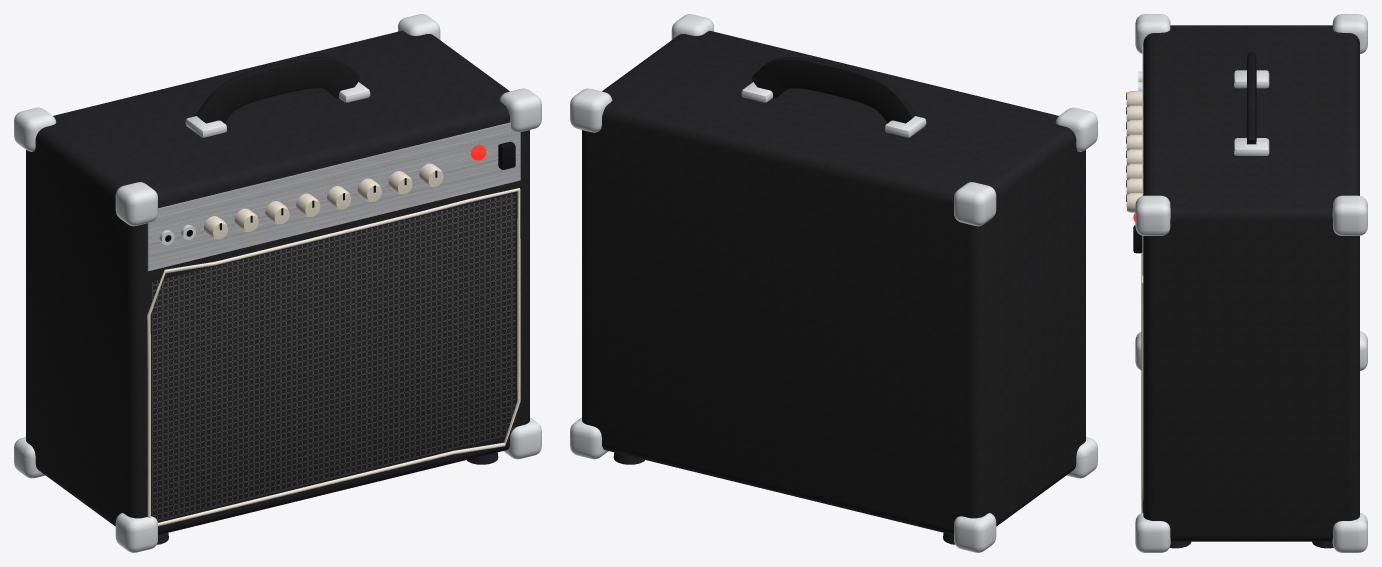
The model's file is guitar-amp.glb.
The picture shows the model from 3 angles, left to right: view 1: azimuth 30°, elevation 25°; view 2: azimuth 150°, elevation 25°; view 3: azimuth 270°, elevation 25°; orthographic projection. The views are drawn at different scales.
Parts seen in each view (by area): view 1: Guitar_Amp; view 2: Guitar_Amp; view 3: Guitar_Amp.
Boxes of the visible parts, x1,y1,x2,y2 form: Guitar_Amp: [14, 14, 541, 552]; Guitar_Amp: [570, 14, 1097, 552]; Guitar_Amp: [1126, 14, 1367, 552].
Size of the model in its own units: 0.58 by 0.54 by 0.3017.
11 materials, 4 textured.
